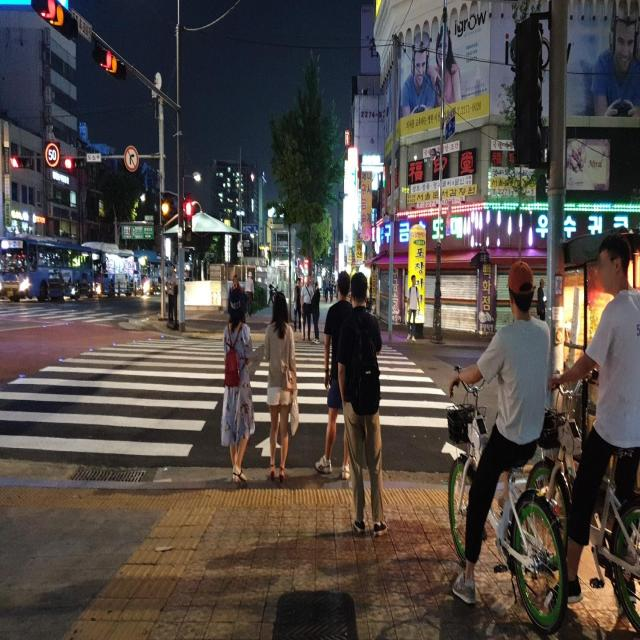빨간불: (184, 198, 193, 248)
횡단보도: (0, 337, 469, 462), (0, 300, 142, 328)
